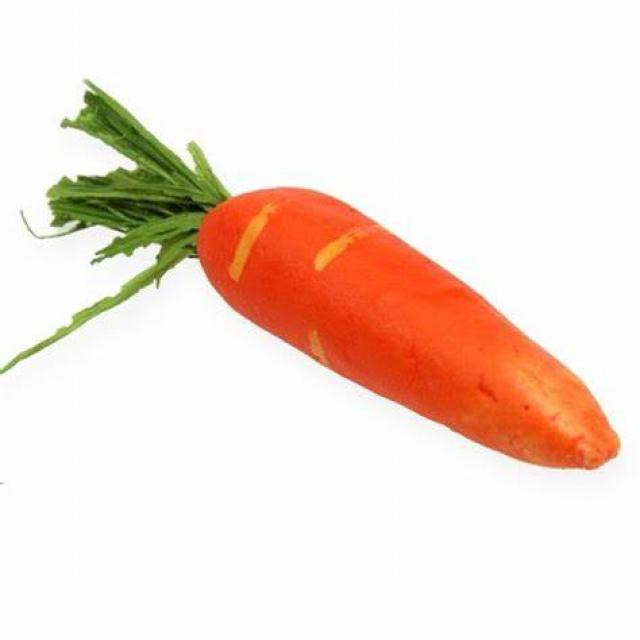Carrot: (48, 111, 616, 476)
